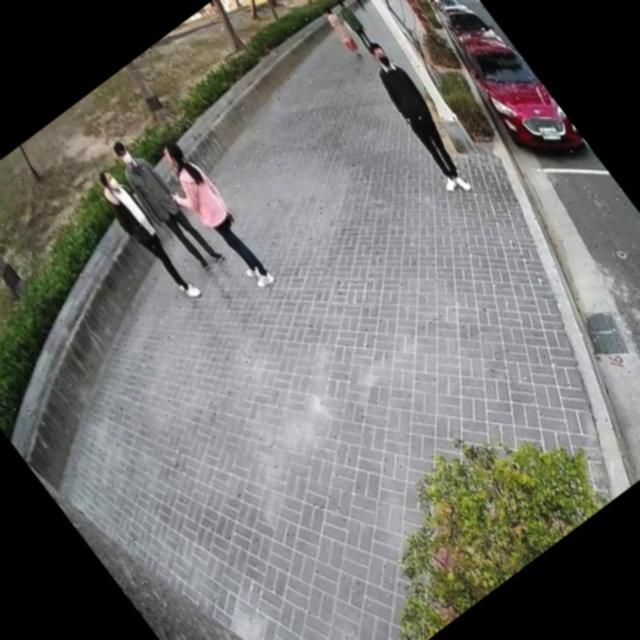person: (342, 28, 490, 205), (138, 128, 282, 301), (99, 128, 228, 282), (81, 158, 206, 308), (326, 0, 386, 61), (312, 0, 370, 62)
